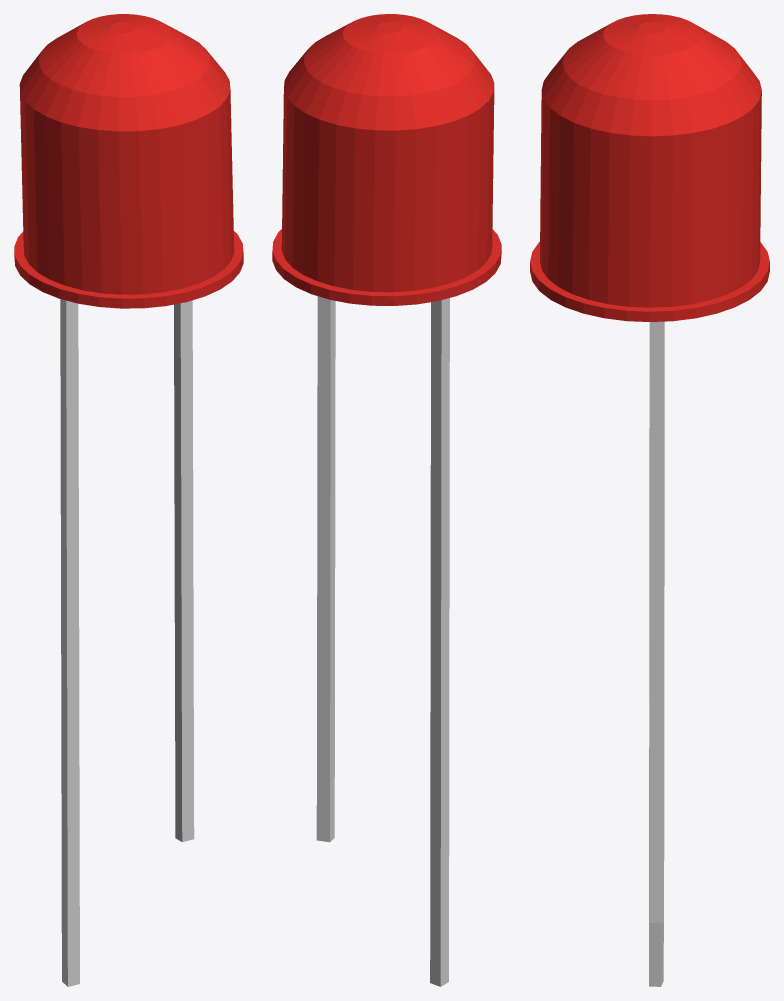
The model's file is LED.glb.
3 renders of one model, left to right at view 1: azimuth 30°, elevation 25°; view 2: azimuth 150°, elevation 25°; view 3: azimuth 270°, elevation 25°, orthographic. The views are drawn at different scales.
Parts seen in each view (by area): view 1: LED; view 2: LED; view 3: LED.
Part boxes in pixels (x1,y1,x2,y2): LED: (14,14,243,986); LED: (272,14,501,986); LED: (530,14,769,986).
Bounding box in the file's own units: 0.1083 × 0.4908 × 0.1087.
